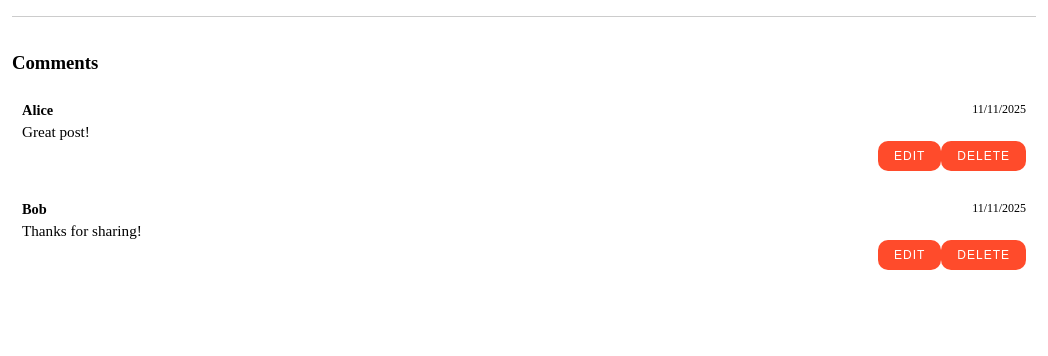
Test case: Comments Component › cancels editing comment when clicking cancel
This screenshot has width=1048, height=356.
Expected: the text "Great post!" is shown, [22,123,90,140]
Click the 1st button "Edit": (910, 156) [878,141,941,171]
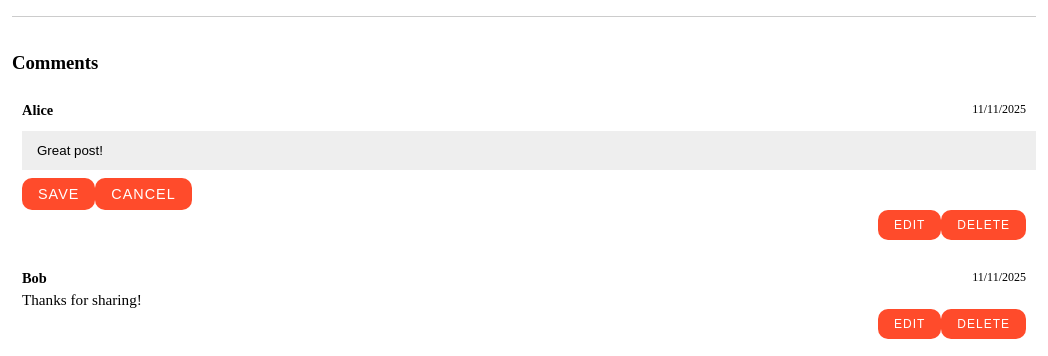
Click the button "Cancel": (144, 194) [95,178,192,210]
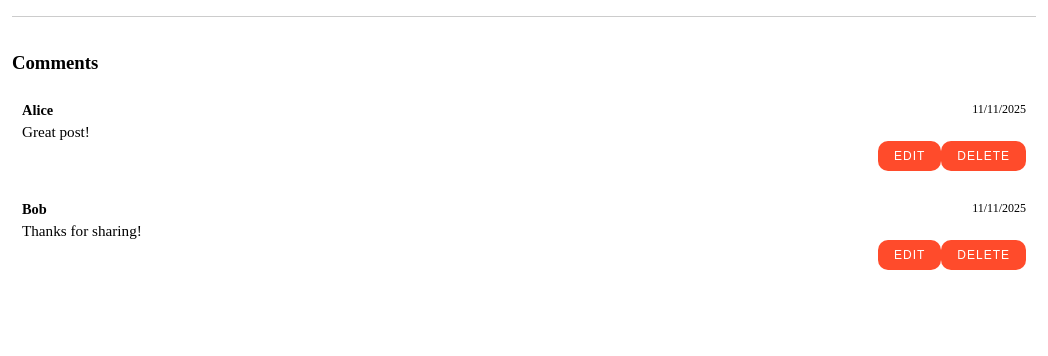
Expected: the text "Great post!" is shown, [22,123,90,140]
